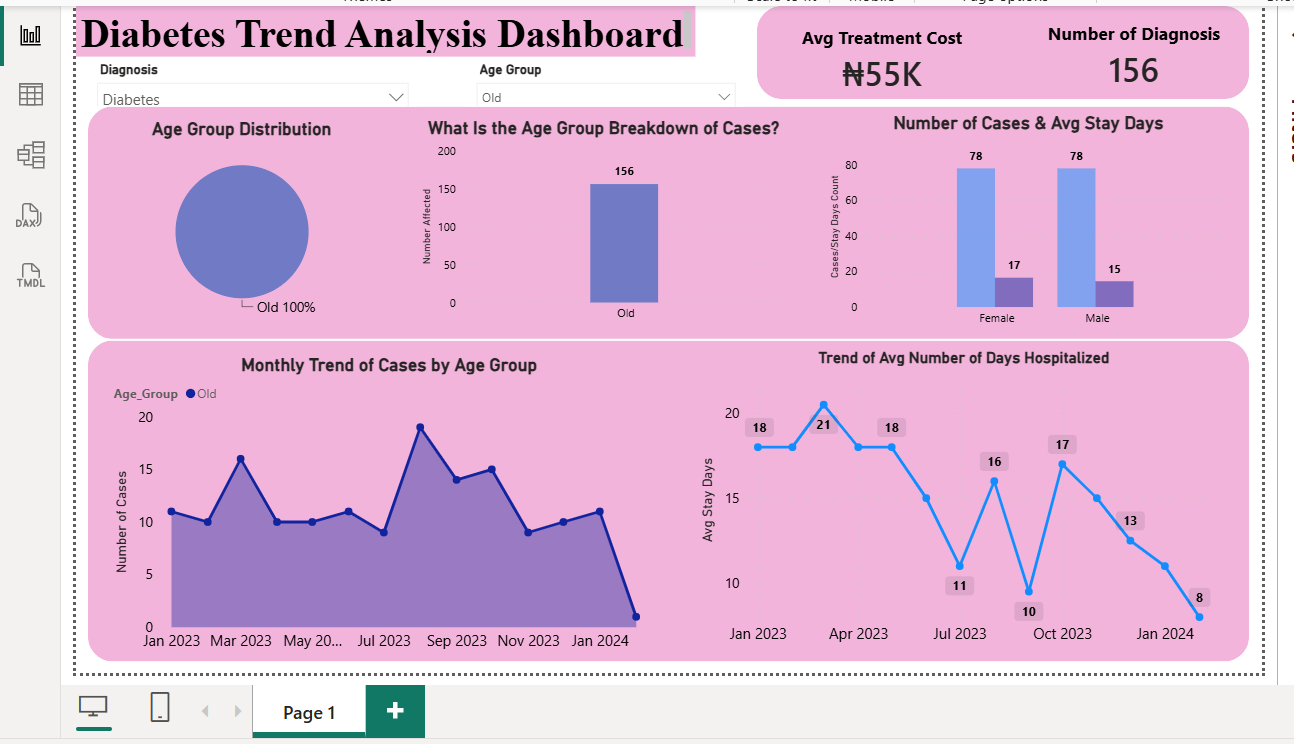

The page's visual inventory and layout, read from the dashboard file:
{"tool":"powerbi","page":{"name":"Page 1","canvas":[1280,720],"ordinal":0},"visuals":[{"type":"group","id":"g1","title":"Background","box":[13,0,1253.3,707.6],"z":0},{"type":"shape","box":[735.2,0,531.1,100.4],"z":0,"group":"g1"},{"type":"slicer","fields":{"Values":["Diagnosis_dataset.Diagnosis"]},"box":[13,55.1,356.2,53.4],"z":0,"group":"g2"},{"type":"slicer","fields":{"Values":["Diagnosis_dataset.Age_Group"]},"box":[422.7,55.1,299.6,53.4],"z":1000,"group":"g2"},{"type":"shape","box":[13,108.5,1253.3,251],"z":1000,"group":"g1"},{"type":"lineChart","title":"Trend of Avg Number of Days Hospitalized ","fields":{"Y":["Median(Diagnosis_dataset.Length_of_Stay_Days)"],"Category":["Diagnosis_dataset.Visit_Date.Variation.Date Hierarchy.Year","Diagnosis_dataset.Visit_Date.Variation.Date Hierarchy.Month"]},"box":[668.7,369.2,579.7,330.3],"z":1000},{"type":"cardVisual","fields":{"Data":["Median(Diagnosis_dataset.Treatment_Cost)"]},"box":[722.2,8.1,296.3,100.4],"z":2000},{"type":"shape","box":[13,361.1,1253.3,346.5],"z":2000,"group":"g1"},{"type":"cardVisual","fields":{"Data":["CountNonNull(Diagnosis_dataset.Diagnosis)"]},"box":[1018.5,0,247.7,108.5],"z":3000},{"type":"areaChart","title":"Monthly Trend of Cases by Age Group","fields":{"Category":["Diagnosis_dataset.Visit_Date.Variation.Date Hierarchy.Year","Diagnosis_dataset.Visit_Date.Variation.Date Hierarchy.Month"],"Y":["CountNonNull(Diagnosis_dataset.Diagnosis)"],"Series":["Diagnosis_dataset.Age_Group"]},"box":[35.9,376.1,604.7,330.7],"z":4000},{"type":"clusteredColumnChart","title":"Number of Cases & Avg Stay Days","fields":{"Category":["Diagnosis_dataset.Gender"],"Y":["CountNonNull(Diagnosis_dataset.Diagnosis)","Median(Diagnosis_dataset.Length_of_Stay_Days)"]},"box":[808,115,440.4,239.6],"z":5000},{"type":"clusteredColumnChart","title":"What Is the Age Group Breakdown of Cases?","fields":{"Category":["Diagnosis_dataset.Age_Group"],"Y":["CountNonNull(Diagnosis_dataset.Diagnosis)"]},"box":[367.6,119.8,404.8,229.9],"z":6000},{"type":"pieChart","title":"Age Group Distribution","fields":{"Category":["Diagnosis_dataset.Age_Group"],"Y":["CountNonNull(Diagnosis_dataset.Diagnosis)"]},"box":[13,121.4,331.9,221.8],"z":7000},{"type":"textbox","box":[0,0,669,54.8],"z":8000},{"type":"group","id":"g2","title":"Slicers","box":[13,55.1,709.2,53.4],"z":9000}]}

Visuals, with their boxes in screenshot pixels (x1, y1, x2, y2):
"Background" group: box(70, 0, 1275, 674)
shape: box(764, 0, 1275, 90)
slicer - Diagnosis_dataset.Diagnosis: box(70, 46, 412, 98)
slicer - Diagnosis_dataset.Age_Group: box(464, 46, 752, 98)
shape: box(70, 98, 1275, 339)
"Trend of Avg Number of Days Hospitalized " lineChart: box(700, 348, 1258, 666)
cardVisual - Median(Diagnosis_dataset.Treatment_Cost): box(752, 1, 1037, 98)
shape: box(70, 341, 1275, 674)
cardVisual - CountNonNull(Diagnosis_dataset.Diagnosis): box(1037, 0, 1275, 98)
"Monthly Trend of Cases by Age Group" areaChart: box(92, 355, 673, 673)
"Number of Cases & Avg Stay Days" clusteredColumnChart: box(834, 104, 1258, 334)
"What Is the Age Group Breakdown of Cases?" clusteredColumnChart: box(411, 108, 800, 330)
"Age Group Distribution" pieChart: box(70, 110, 389, 323)
textbox: box(57, 0, 701, 46)
"Slicers" group: box(70, 46, 752, 98)
